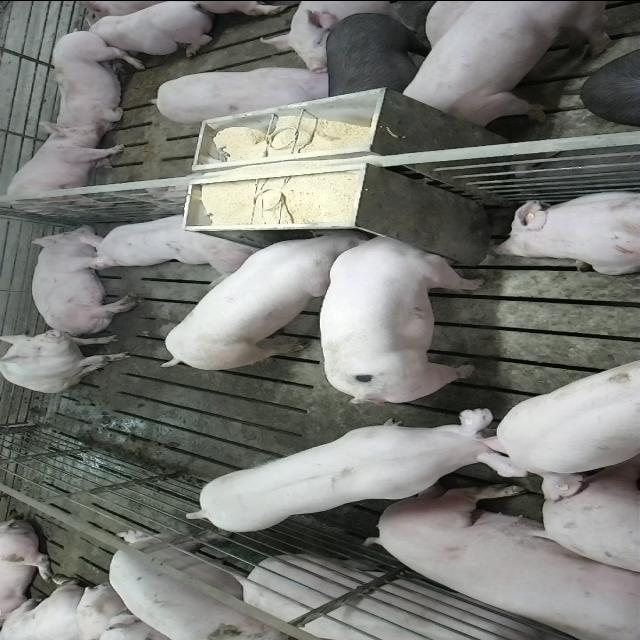Feeding: (159, 228, 365, 376), (318, 224, 484, 398)
Lateral_lying: (368, 482, 640, 636), (26, 222, 138, 336)
Sitting: (2, 327, 134, 392)
Standing: (187, 410, 528, 536), (229, 551, 577, 640), (394, 1, 620, 124), (486, 355, 640, 502), (104, 529, 306, 640), (147, 60, 330, 124), (2, 124, 132, 213), (321, 14, 425, 100)
Sternal_lying: (490, 186, 640, 274), (79, 208, 258, 276), (38, 28, 142, 134), (72, 1, 216, 58)
